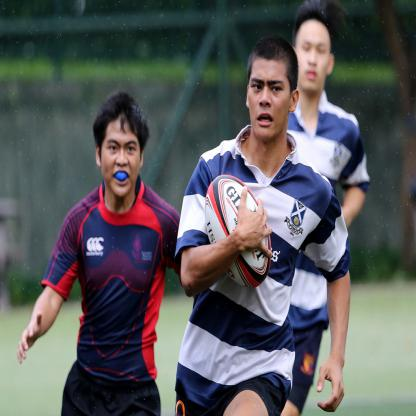Ball: (204, 174, 272, 288)
